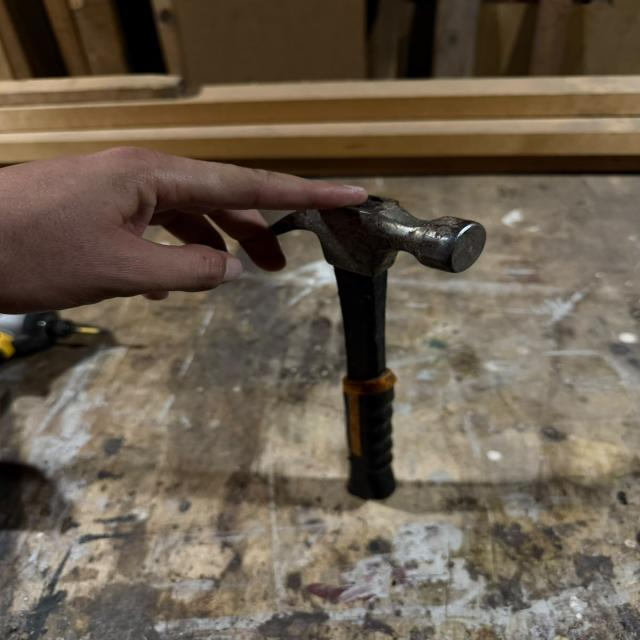Martillo: (251, 176, 509, 524)
